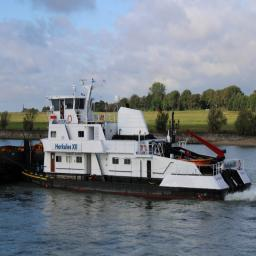tugboat: (21, 79, 254, 208)
